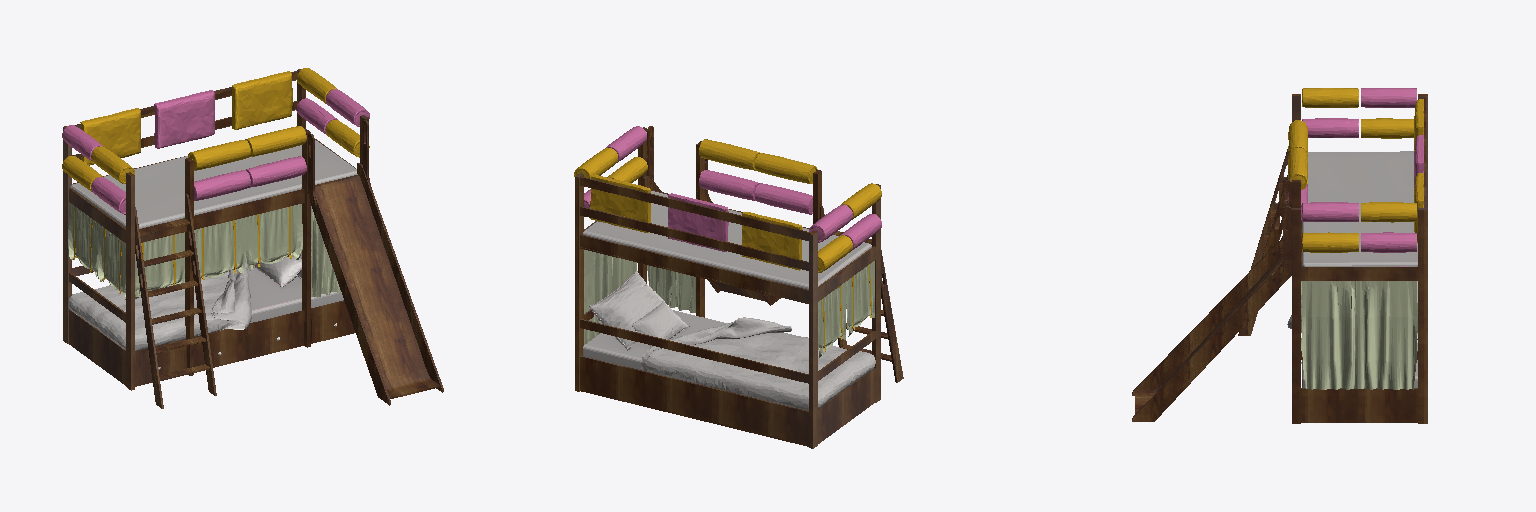
The picture shows the model from 3 angles: view 1: azimuth 30°, elevation 25°; view 2: azimuth 150°, elevation 25°; view 3: azimuth 270°, elevation 25°; orthographic projection.
Visible parts, largest first — view 1: solid_005, solid_001, solid_003, solid_006, solid_002; view 2: solid_005, solid_001, solid_003, solid_006, solid_002; view 3: solid_005, solid_006, solid_001, solid_003, solid_002.
Part boxes in pixels (x1,y1,x2,y2): solid_005: (63,69,443,408); solid_001: (68,140,357,350); solid_003: (62,68,369,293); solid_006: (68,203,340,299); solid_002: (62,89,369,214); solid_005: (575,126,903,448); solid_001: (583,191,875,410); solid_003: (574,139,881,351); solid_006: (584,250,874,357); solid_002: (584,126,881,251); solid_005: (1132,94,1427,423); solid_006: (1301,281,1417,389); solid_001: (1287,151,1417,387); solid_003: (1288,88,1423,252); solid_002: (1288,88,1423,252).
Size of the model in its own units: 2.24 by 1.87 by 2.28.
1 materials, 1 textured.